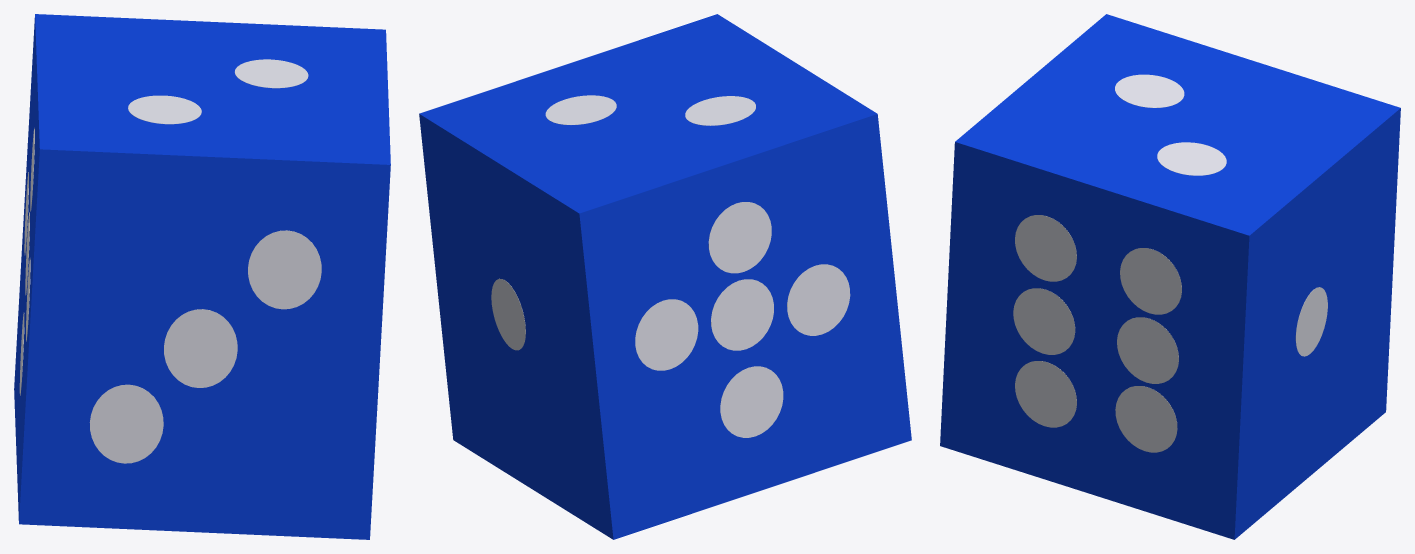
3 renders of one model, left to right at view 1: azimuth 30°, elevation 25°; view 2: azimuth 150°, elevation 25°; view 3: azimuth 270°, elevation 25°, orthographic. The views are drawn at different scales.
Visible parts, largest first — view 1: Cylinder.003; view 2: Cylinder.003; view 3: Cylinder.003.
Boxes of the visible parts, bbox=[...] form: Cylinder.003: bbox=[14, 14, 390, 539]; Cylinder.003: bbox=[419, 14, 911, 539]; Cylinder.003: bbox=[940, 14, 1400, 539].
Bounding box in the file's own units: 3.51 × 2.98 × 3.5.
